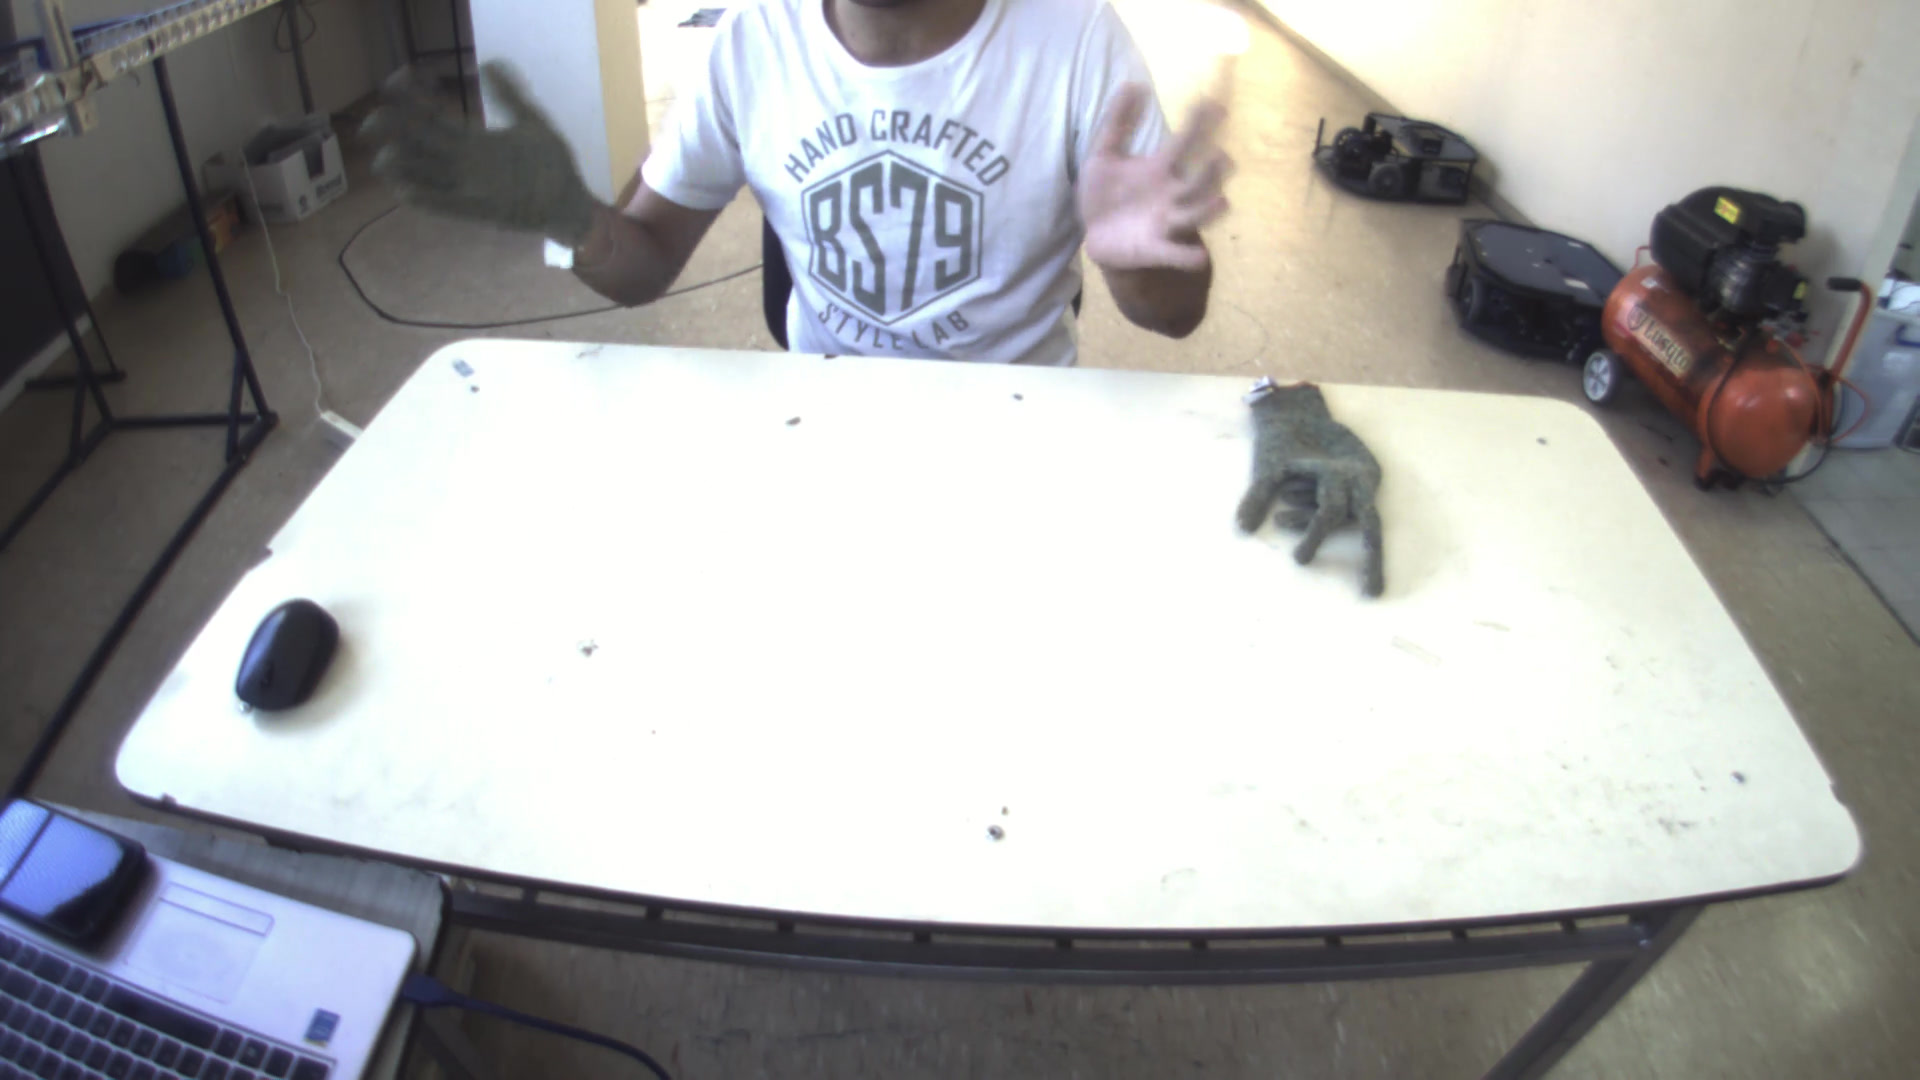hand: (344, 54, 601, 256), (1062, 76, 1238, 301)
